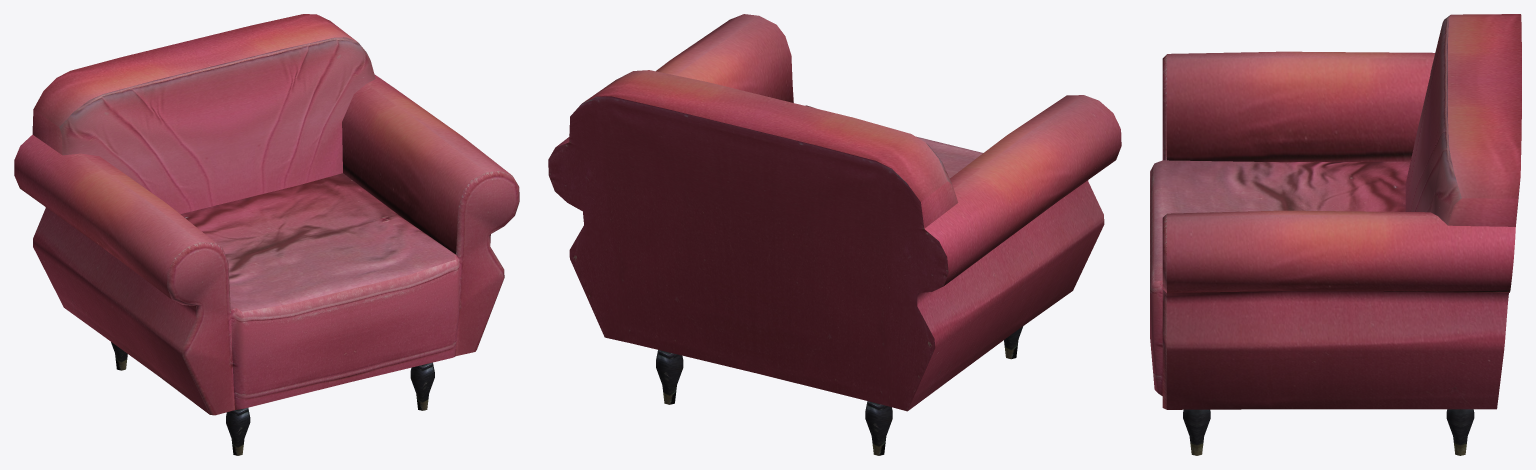
Rendered from chair_old.FBX.
3 views of the same model, side by side, from view 1: azimuth 30°, elevation 25°; view 2: azimuth 150°, elevation 25°; view 3: azimuth 270°, elevation 25° (orthographic). The views are drawn at different scales.
Visible parts, largest first — view 1: chair_old; view 2: chair_old; view 3: chair_old.
Part boxes in pixels (x1,y1,x2,y2): chair_old: (14,14,519,455); chair_old: (548,14,1121,455); chair_old: (1150,14,1521,455).
Bounding box in the file's own units: 46.31 × 35.55 × 37.14.
Materials: 1 (1 with a texture image).
